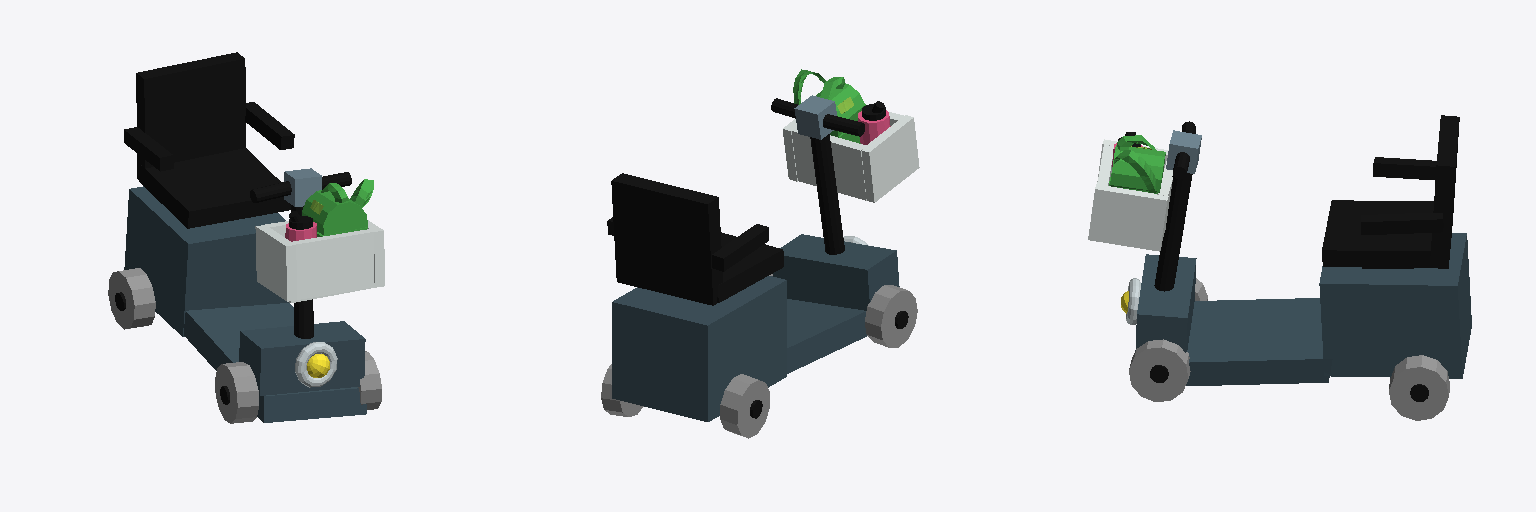
3 renders of one model, left to right at view 1: azimuth 30°, elevation 25°; view 2: azimuth 150°, elevation 25°; view 3: azimuth 270°, elevation 25°, orthographic.
Visible parts, largest first — view 1: group[number redacted]; view 2: group[number redacted]; view 3: group[number redacted].
Part boxes in pixels (x1,y1,x2,y2): group[number redacted]: (108,52,384,423); group[number redacted]: (601,69,919,438); group[number redacted]: (1088,115,1471,420).
Size of the model in its own units: 2.87 by 4.07 by 5.64.